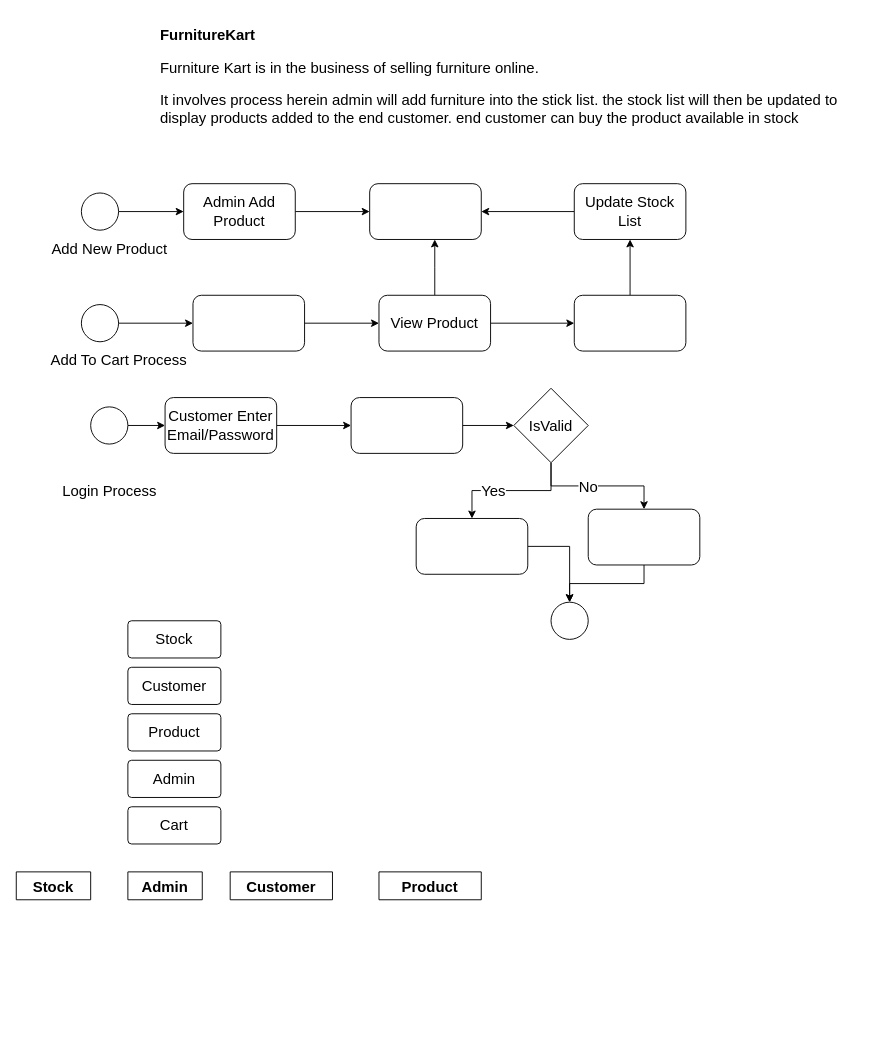
Some shapes in this 879 by 1056 pixel diagram are drawn without their labels. Here are the shapes that lost their labels. From the top down, the centre of each, then its label:
At point (425, 211): "Stock List update".
At point (248, 322): "Customer Choose Category".
At point (629, 322): "Add Product to Kart".
At point (406, 425): "Validate Email/Password".
At point (471, 546): "Login Success".
At point (643, 536): "Login Failure".
